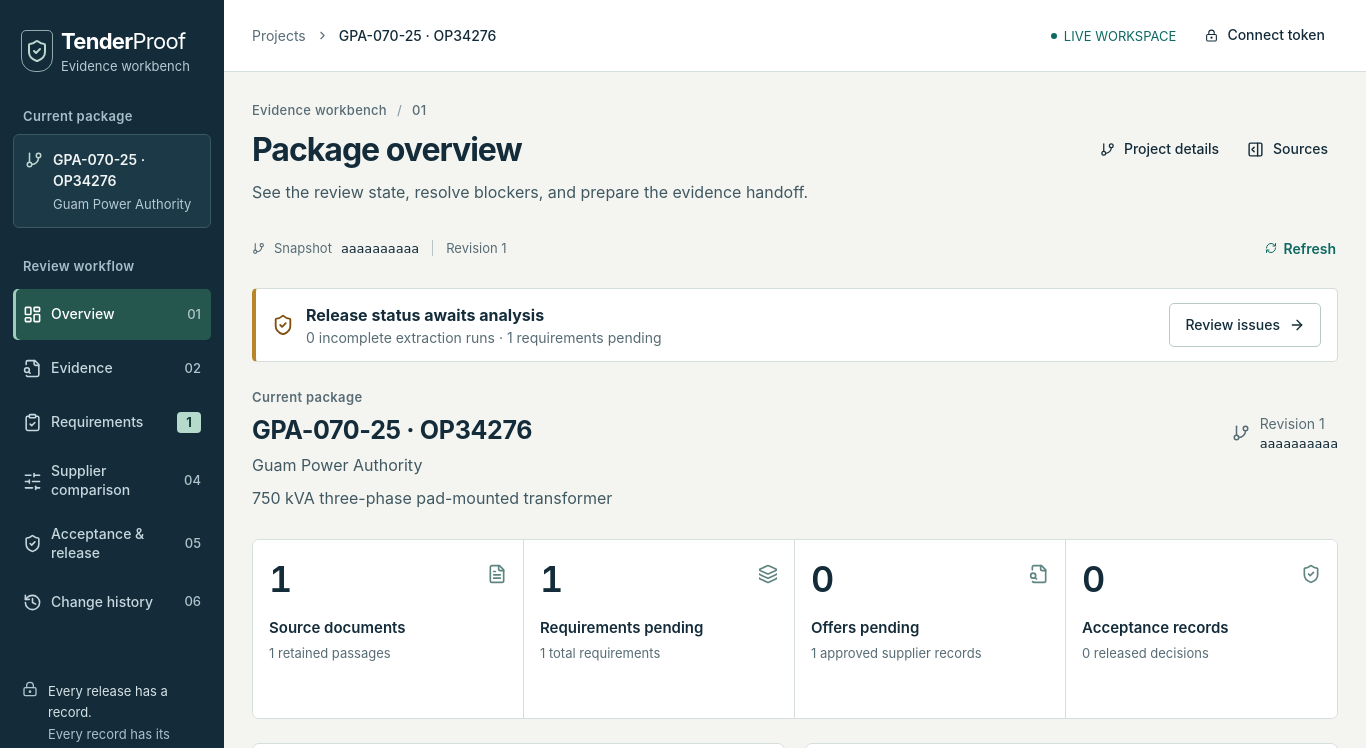
live engineering workspace › shows currency and explicit price basis unit with a neutral heading
Click the button "Requirements 1": (112, 423) [13,397,211,448]
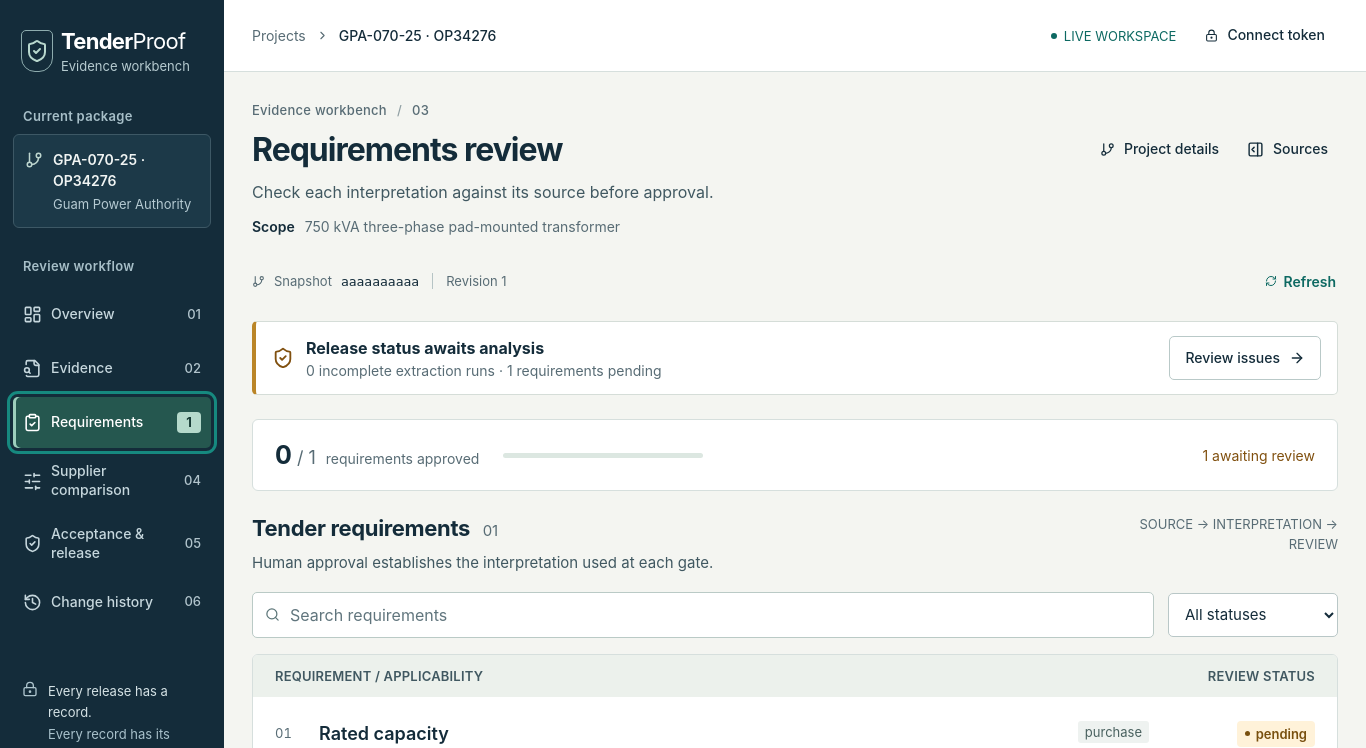
Click the button with aria-label "Toggle source inspector": (1288, 149) [1237,127,1338,171]
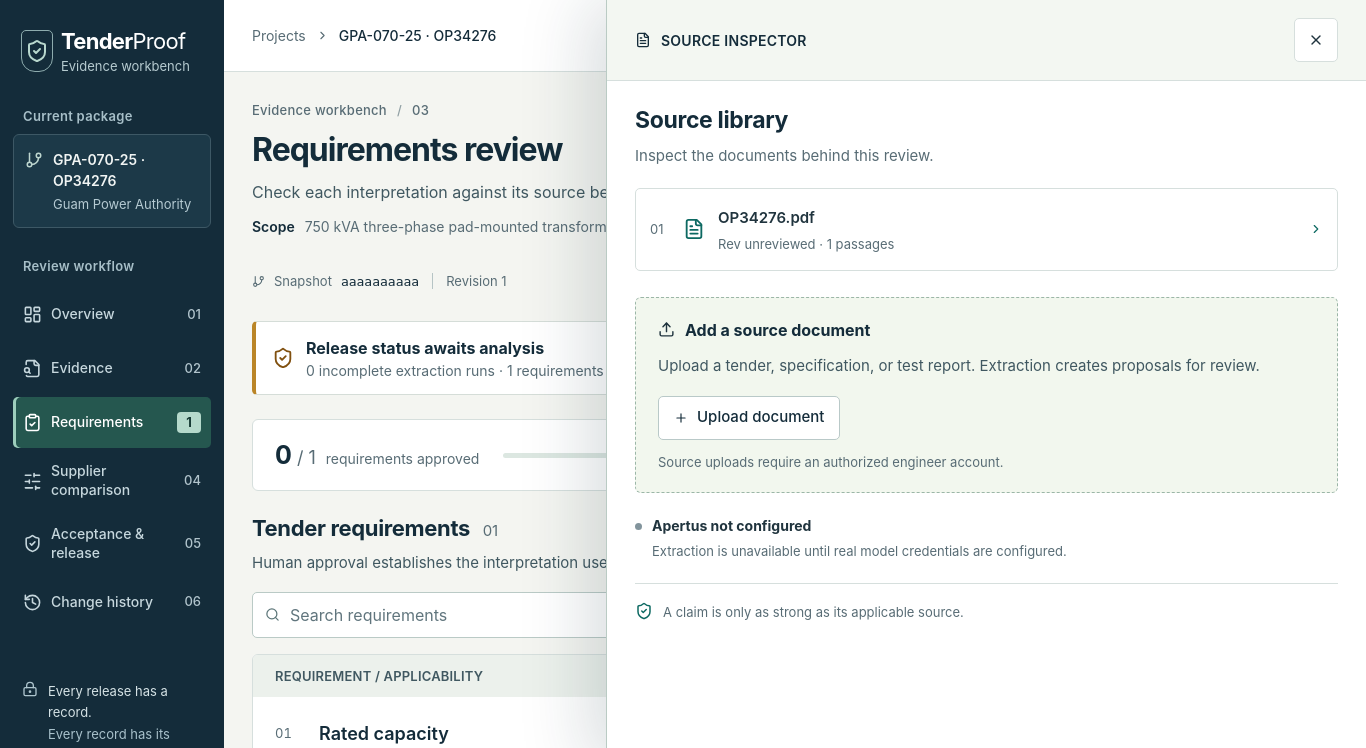
Expected: the heading "Rated capacity" is shown, [319,723,449,744]
Click the button "Supplier comparison 04": (112, 481) [13,451,211,511]
(page scrolled)
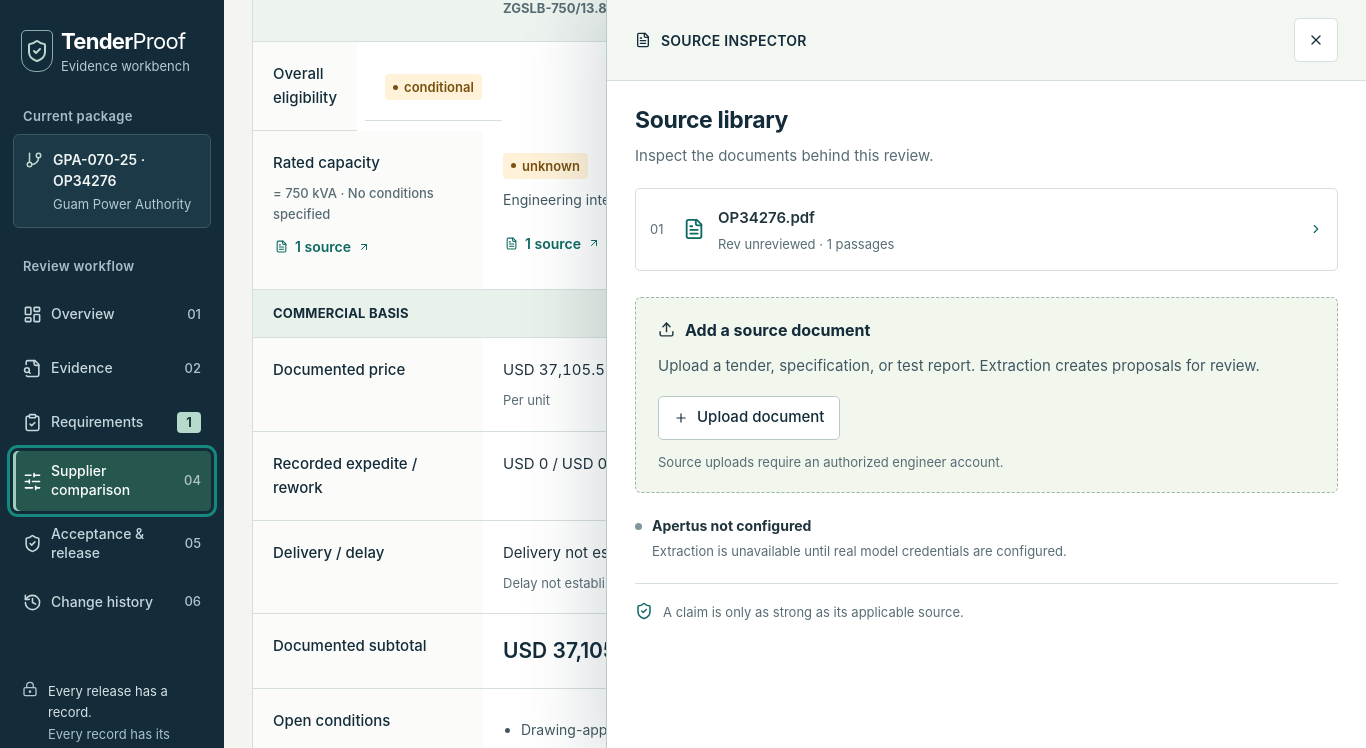
Expected: the row "Documented price USD 37,105.50 Per unit" is shown, [253,337,1337,431]
